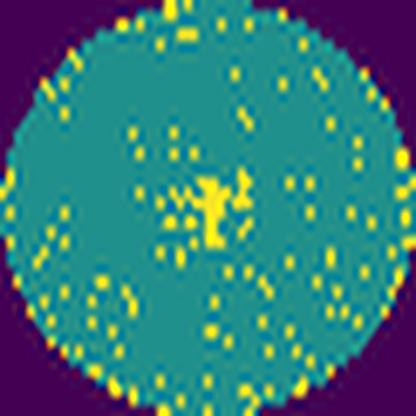Center: (162, 165, 256, 254)
